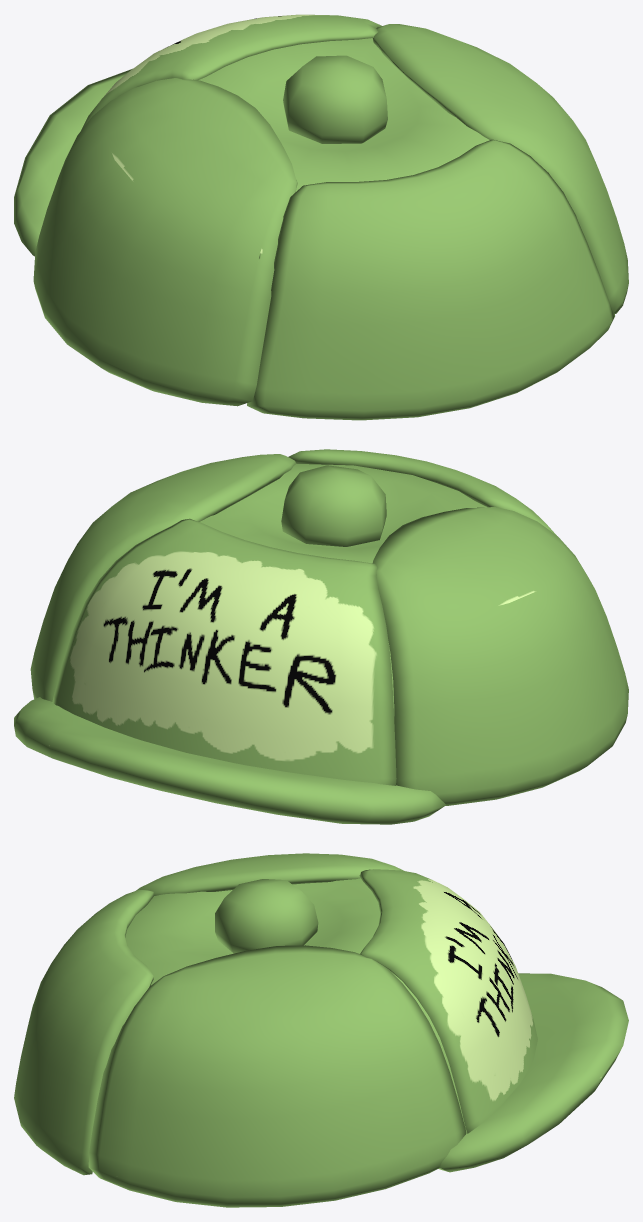
The model's file is dandys_world_thinking_cap.glb.
3 renders of one model, top to bottom at view 1: azimuth 30°, elevation 25°; view 2: azimuth 150°, elevation 25°; view 3: azimuth 270°, elevation 25°, orthographic. The views are drawn at different scales.
Parts seen in each view (by area): view 1: Object_2; view 2: Object_2; view 3: Object_2.
Boxes of the visible parts, x1=… form: Object_2: x1=14, y1=14, x2=628, y2=420; Object_2: x1=14, y1=449, x2=628, y2=824; Object_2: x1=14, y1=853, x2=628, y2=1207.
Size of the model in its own units: 2.31 by 1.04 by 2.57.
1 material, 1 textured.
